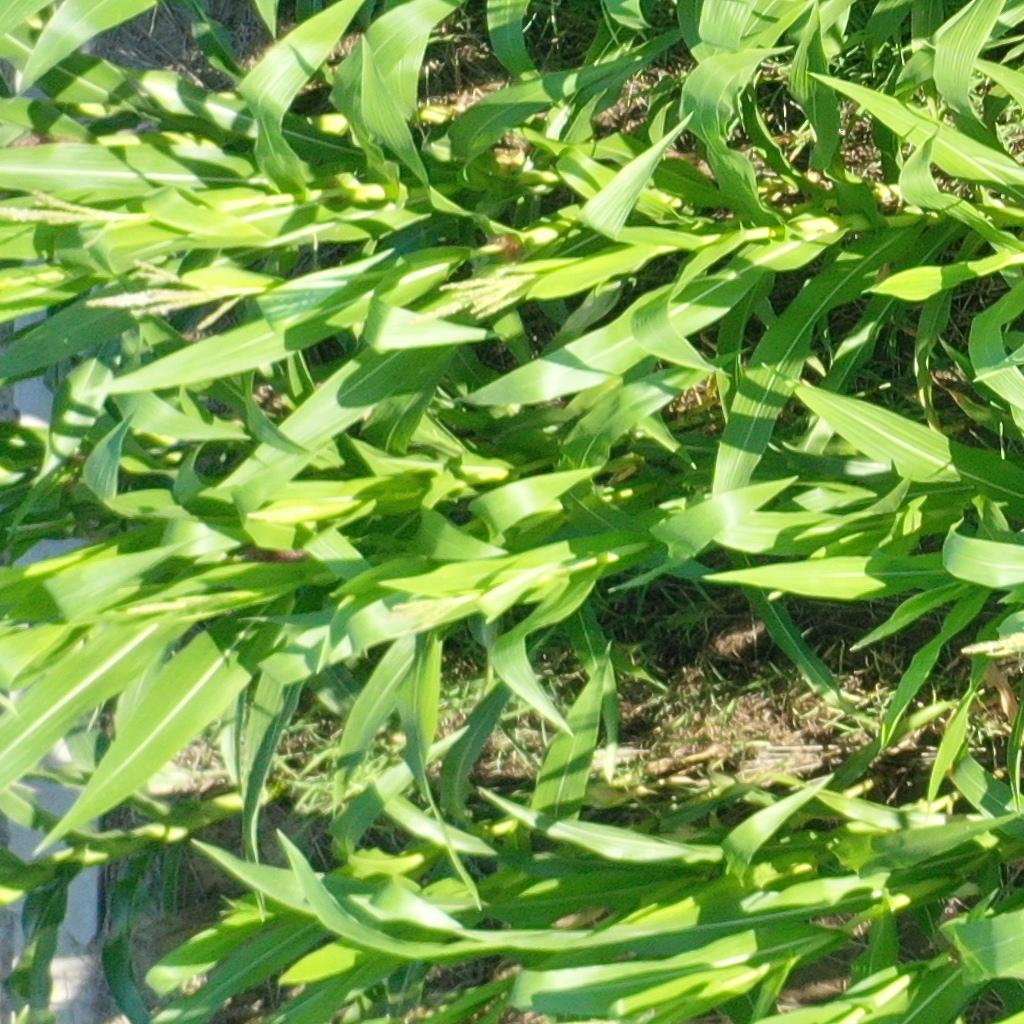Tassel: (83, 257, 261, 333), (1, 185, 140, 253), (410, 264, 538, 328), (391, 584, 488, 633), (951, 628, 1024, 661)
